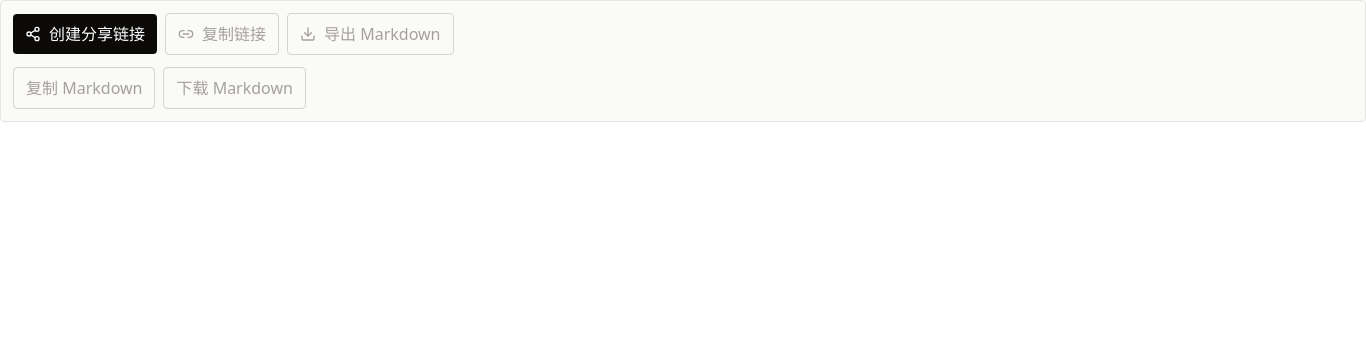
Test case: chain sharing frontend › exports markdown after share creation and exposes content
The width and height of the screenshot is (1366, 363).
Click the button "创建分享链接". click: (85, 34)
box: [13,14,157,54]
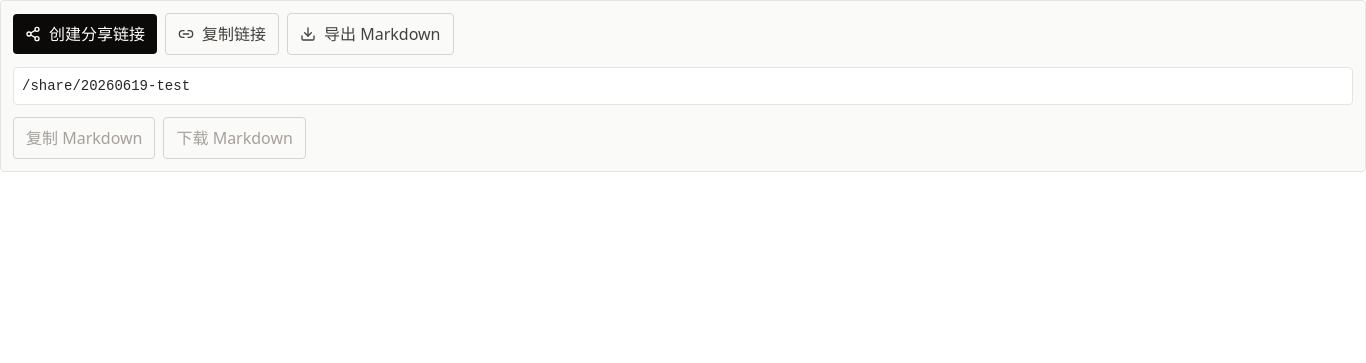
Result: the text "/share/20260619-test" is shown at [13,67,1353,105]
Click the button "导出 Markdown". click: (370, 34)
box: [287,13,454,55]
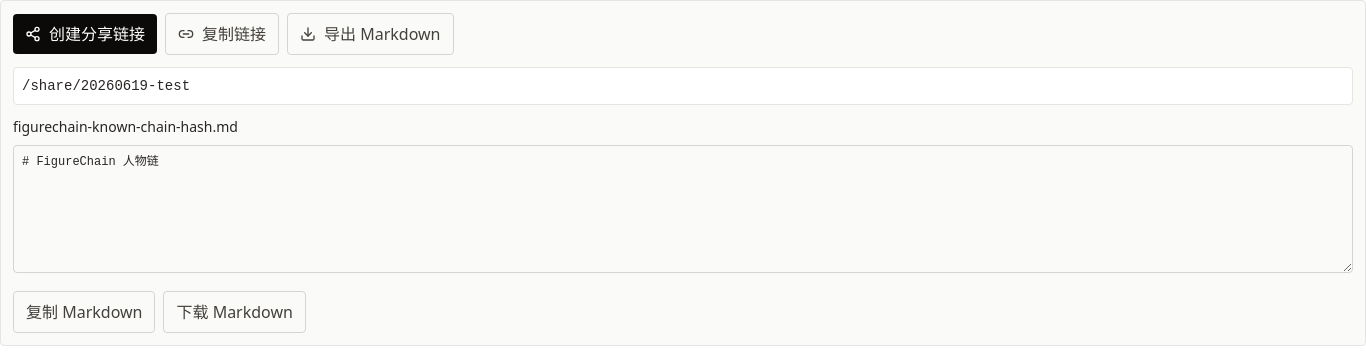
Result: the text "figurechain-known-chain-hash.md" is shown at [13,117,238,136]
Result: the button "复制 Markdown" is enabled at [13,291,156,333]
Result: the button "下载 Markdown" is enabled at [164,291,306,333]
